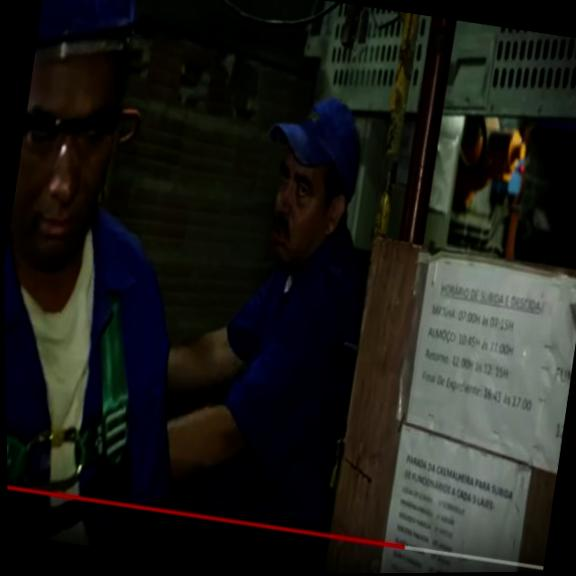no_safety_vest: (3, 191, 213, 558), (179, 229, 381, 575)
